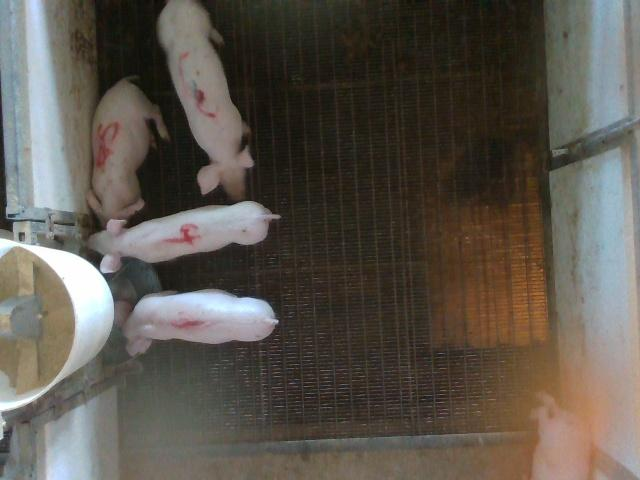pig-1: (158, 0, 254, 201), (114, 289, 279, 356)
pig-4: (89, 201, 280, 272)
pig-5: (88, 76, 169, 224)
